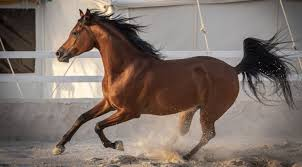horse: (54, 5, 294, 155)
